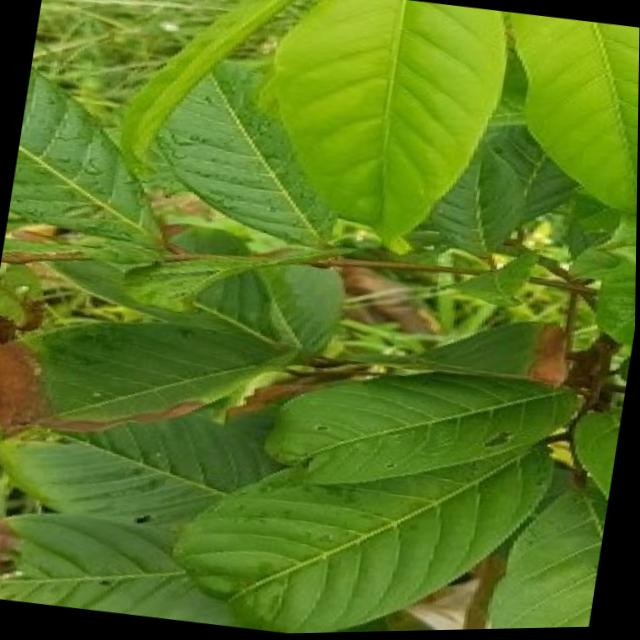Leaf Blight: (0, 320, 219, 487), (479, 268, 637, 434)
